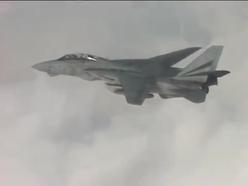aircraft: (32, 45, 231, 106)
